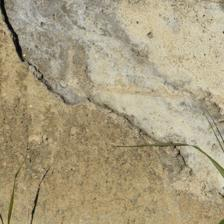Crack: (1, 2, 193, 173)
